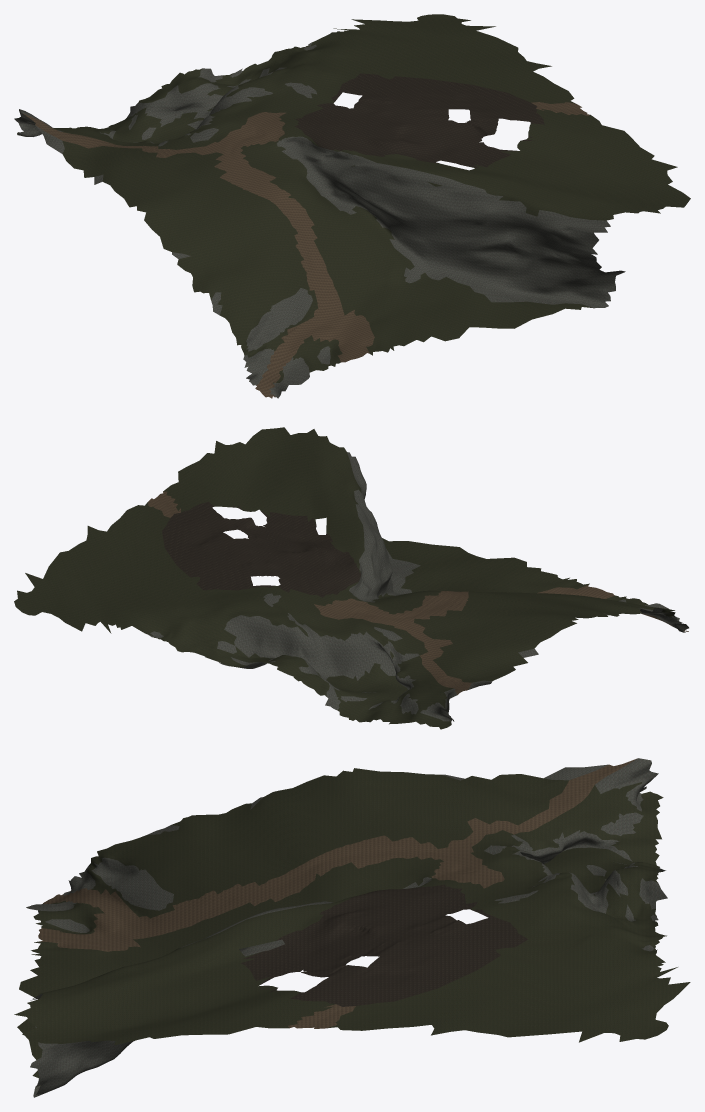
The model's file is G3_Myrtana_Landscape_Cell_155.obj.
3 renders of one model, top to bottom at view 1: azimuth 30°, elevation 25°; view 2: azimuth 150°, elevation 25°; view 3: azimuth 270°, elevation 25°, orthographic. The views are drawn at different scales.
Visible parts, largest first — view 1: G3_Myrtana_Landscape_Cell_155_2, G3_Myrtana_Landscape_Cell_155_3, G3_Myrtana_Landscape_Cell_155_5, G3_Myrtana_Landscape_Cell_155_1, G3_Myrtana_Landscape_Cell_155_4, G3_Myrtana_Landscape_Cell_155_0; view 2: G3_Myrtana_Landscape_Cell_155_2, G3_Myrtana_Landscape_Cell_155_1, G3_Myrtana_Landscape_Cell_155_3, G3_Myrtana_Landscape_Cell_155_4, G3_Myrtana_Landscape_Cell_155_5, G3_Myrtana_Landscape_Cell_155_0; view 3: G3_Myrtana_Landscape_Cell_155_2, G3_Myrtana_Landscape_Cell_155_5, G3_Myrtana_Landscape_Cell_155_1, G3_Myrtana_Landscape_Cell_155_4, G3_Myrtana_Landscape_Cell_155_3, G3_Myrtana_Landscape_Cell_155_0.
Boxes of the visible parts, x1,y1,x2,y2 form: G3_Myrtana_Landscape_Cell_155_2: (17,14,690,383); G3_Myrtana_Landscape_Cell_155_3: (14,68,625,398); G3_Myrtana_Landscape_Cell_155_5: (22,102,590,398); G3_Myrtana_Landscape_Cell_155_1: (295,73,544,167); G3_Myrtana_Landscape_Cell_155_4: (19,42,610,396); G3_Myrtana_Landscape_Cell_155_0: (303,85,524,149); G3_Myrtana_Landscape_Cell_155_2: (14,427,675,729); G3_Myrtana_Landscape_Cell_155_1: (162,501,360,597); G3_Myrtana_Landscape_Cell_155_3: (234,453,688,721); G3_Myrtana_Landscape_Cell_155_4: (149,452,684,721); G3_Myrtana_Landscape_Cell_155_5: (148,491,688,694); G3_Myrtana_Landscape_Cell_155_0: (176,516,338,592); G3_Myrtana_Landscape_Cell_155_2: (14,768,690,1086); G3_Myrtana_Landscape_Cell_155_5: (38,758,637,1028); G3_Myrtana_Landscape_Cell_155_1: (241,884,527,1006); G3_Myrtana_Landscape_Cell_155_4: (26,758,666,1095); G3_Myrtana_Landscape_Cell_155_3: (26,760,667,1097); G3_Myrtana_Landscape_Cell_155_0: (296,887,496,998).
Bounding box in the file's own units: 164 × 41.64 × 168.
